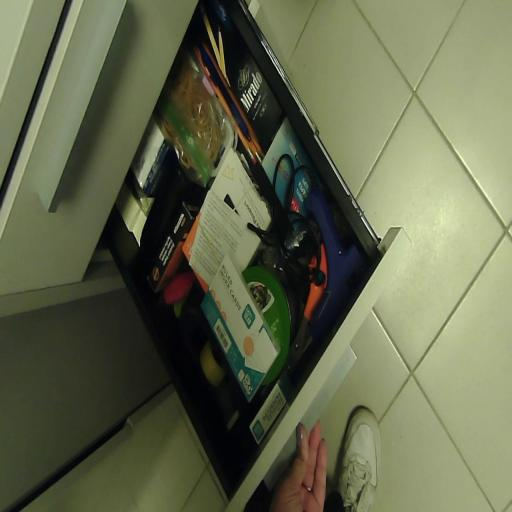pen: (198, 46, 251, 142)
